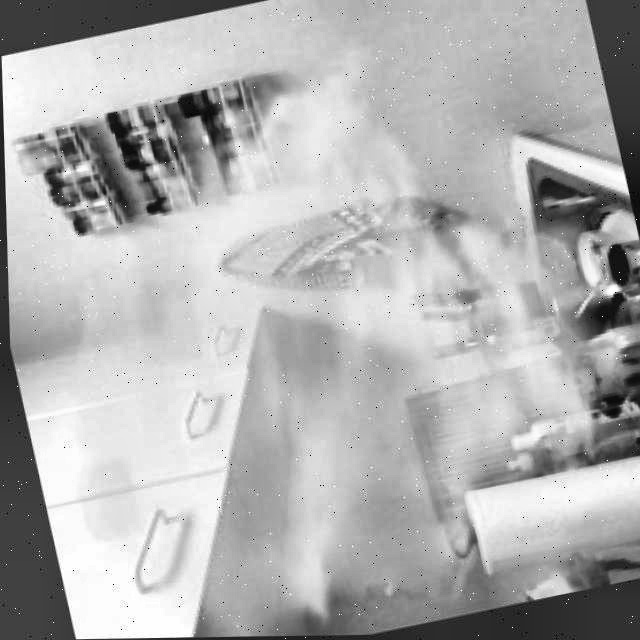Smoke: (3, 0, 640, 639)
